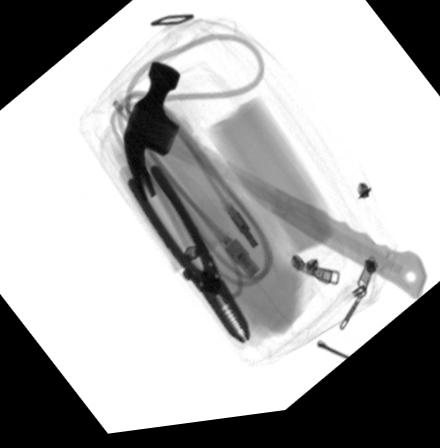Hammer: (121, 64, 427, 312)
Pliers: (119, 168, 249, 348)
